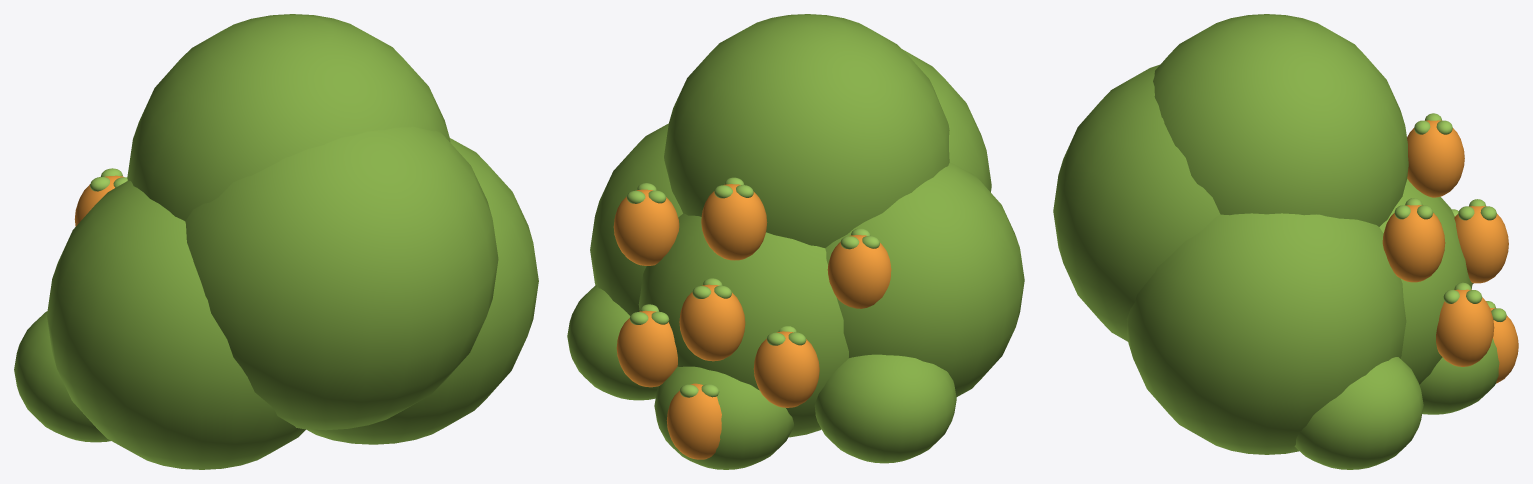
The model's file is berry_ready.fbx.
The picture shows the model from 3 angles, left to right: view 1: azimuth 30°, elevation 25°; view 2: azimuth 150°, elevation 25°; view 3: azimuth 270°, elevation 25°; orthographic projection. The views are drawn at different scales.
Parts seen in each view (by area): view 1: berry_ready; view 2: berry_ready; view 3: berry_ready.
Part boxes in pixels (x1,y1,x2,y2): berry_ready: (14,14,538,469); berry_ready: (567,14,1024,469); berry_ready: (1053,14,1518,469).
Size of the model in its own units: 1 by 0.9 by 1.
1 material, 1 textured.
